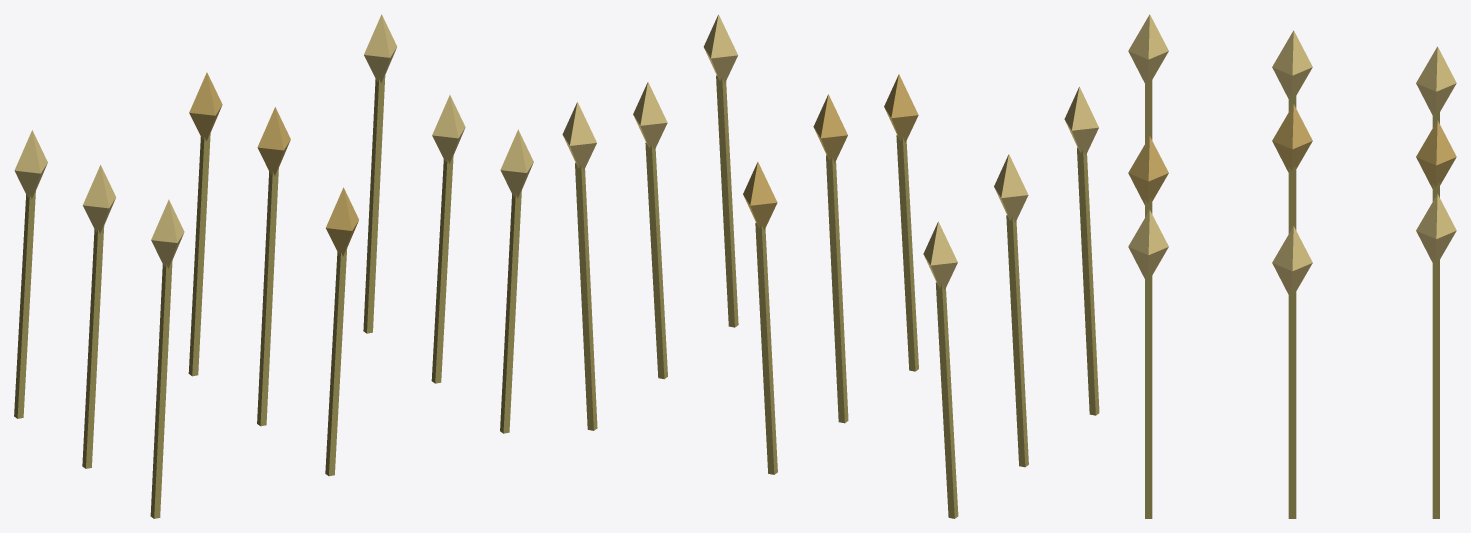
The model's file is ua_wheat_patch_lod.obj.
3 renders of one model, left to right at view 1: azimuth 30°, elevation 25°; view 2: azimuth 150°, elevation 25°; view 3: azimuth 270°, elevation 25°, orthographic. The views are drawn at different scales.
Parts seen in each view (by area): view 1: ua_wheat_patch_lod; view 2: ua_wheat_patch_lod; view 3: ua_wheat_patch_lod.
Part boxes in pixels (bbox=[...]): ua_wheat_patch_lod: bbox=[14, 14, 533, 518]; ua_wheat_patch_lod: bbox=[562, 14, 1099, 518]; ua_wheat_patch_lod: bbox=[1128, 14, 1456, 518].
Size of the model in its own units: 1.39 by 1.09 by 0.982.
